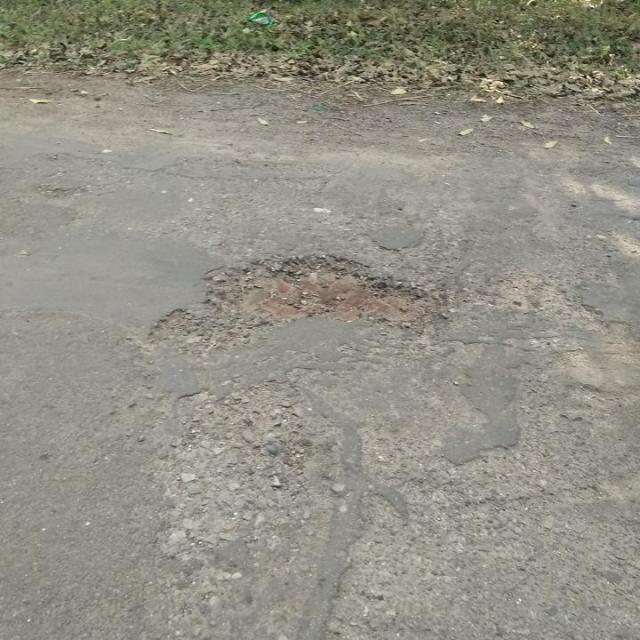pothole: (144, 247, 449, 355)
